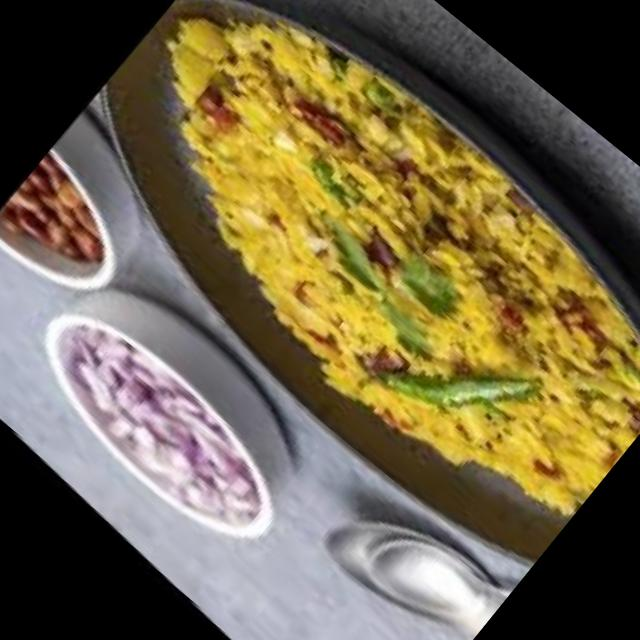poha: (43, 0, 640, 573)
